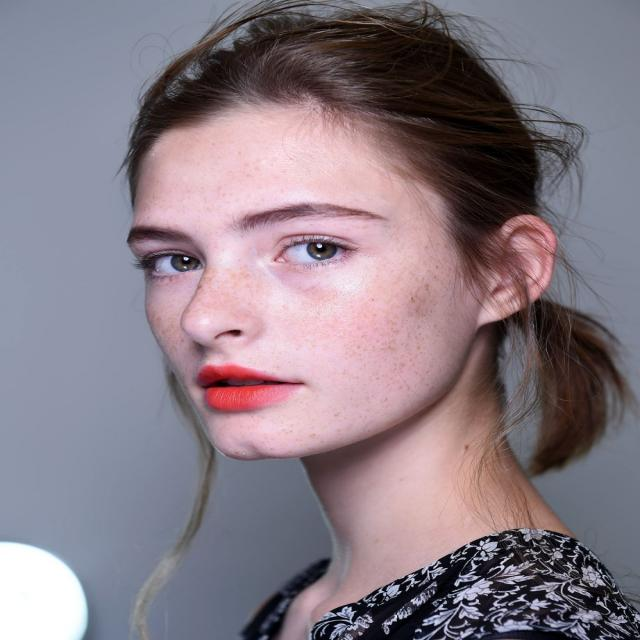earlobe: (477, 288, 514, 326)
eye: (274, 239, 356, 266), (138, 250, 202, 277)
nose: (178, 331, 254, 366)
wholeear: (478, 215, 557, 325)
